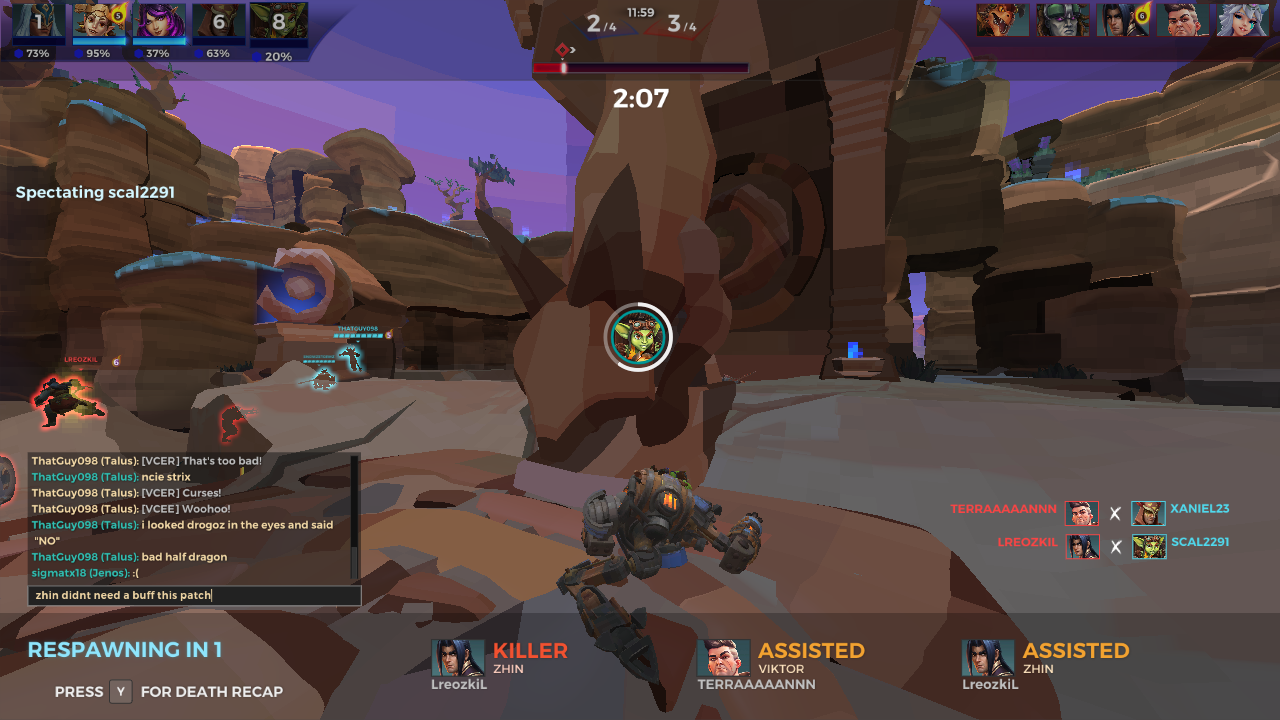model: (26, 370, 111, 433), (217, 406, 256, 449)
